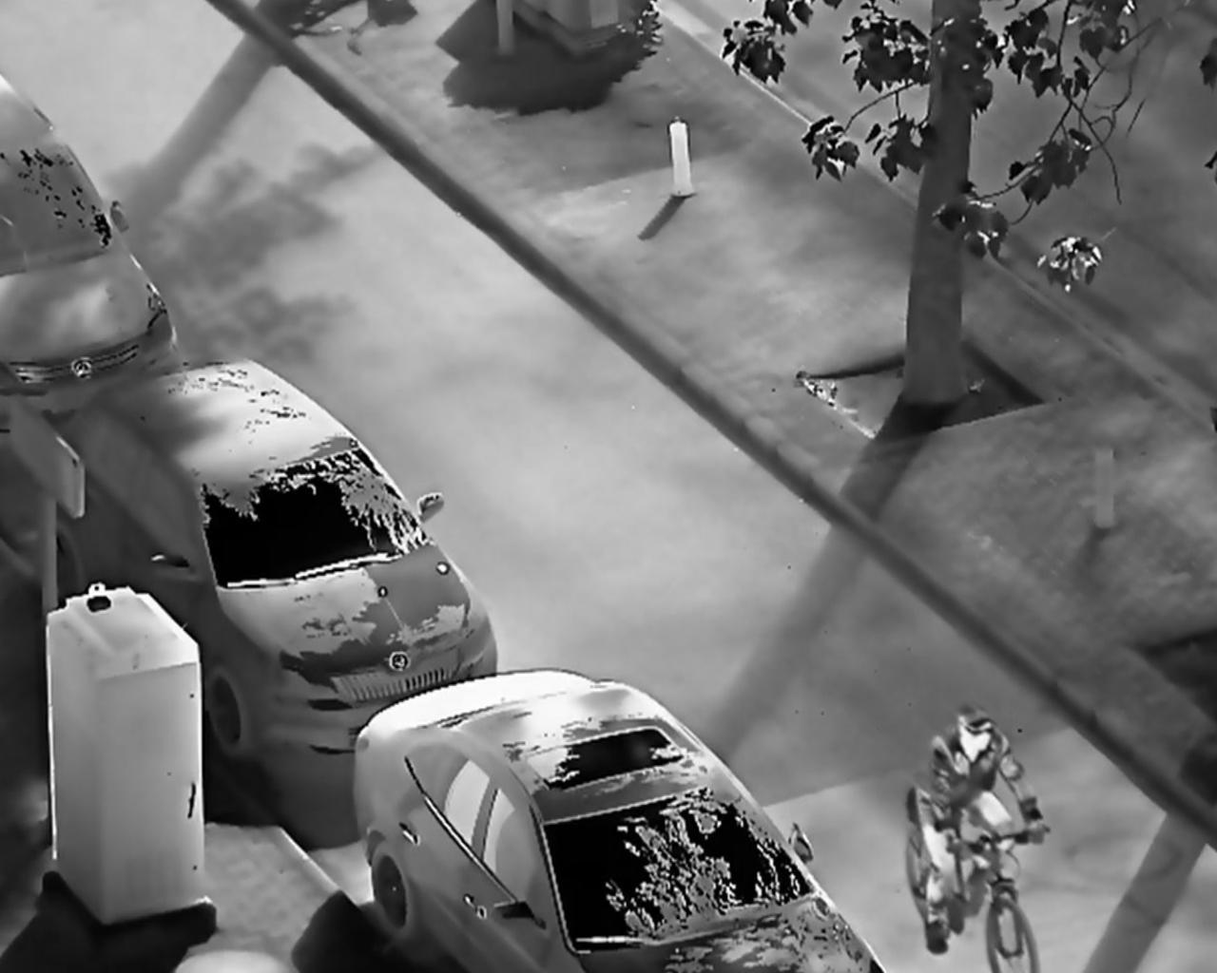person: (912, 703, 1053, 961)
